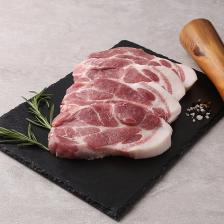meat: (48, 102, 173, 160), (61, 78, 182, 125), (73, 57, 186, 101), (86, 46, 198, 87)
